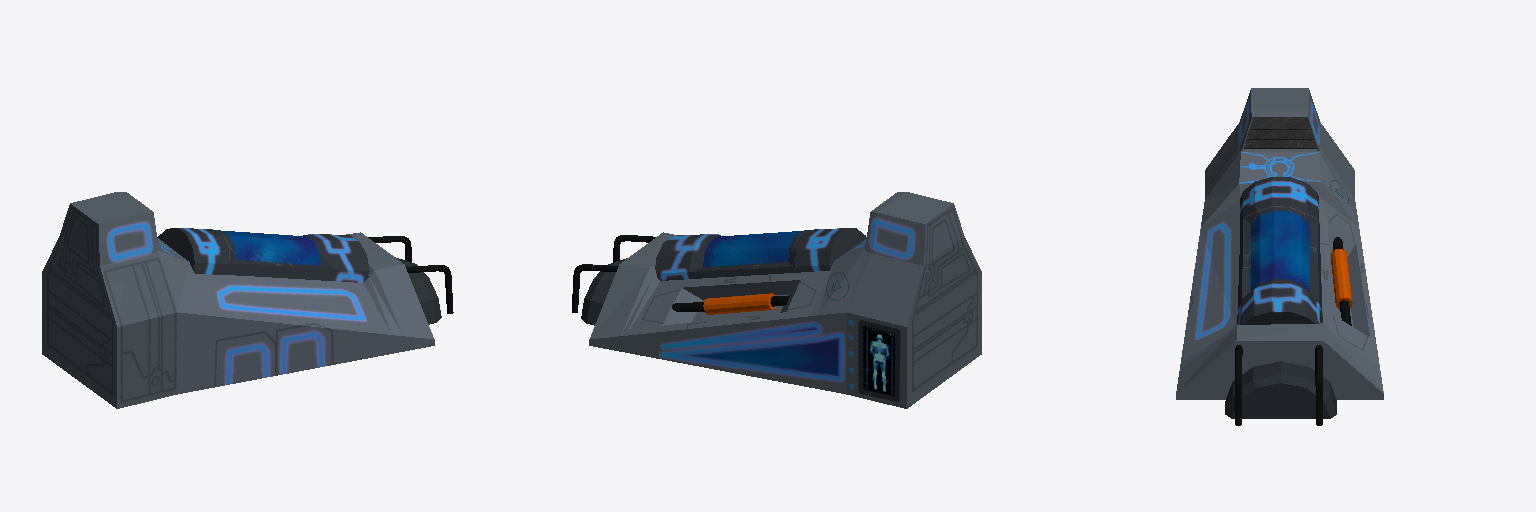
3 renders of one model, left to right at view 1: azimuth 30°, elevation 25°; view 2: azimuth 150°, elevation 25°; view 3: azimuth 270°, elevation 25°, orthographic.
Visible parts, largest first — view 1: polySurface10; view 2: polySurface10; view 3: polySurface10.
Part boxes in pixels (bbox=[...]): polySurface10: bbox=[42, 192, 453, 408]; polySurface10: bbox=[572, 192, 981, 408]; polySurface10: bbox=[1176, 88, 1383, 425].
Bounding box in the file's own units: 10.84 × 4.93 × 5.53.
Materials: 1 (1 with a texture image).